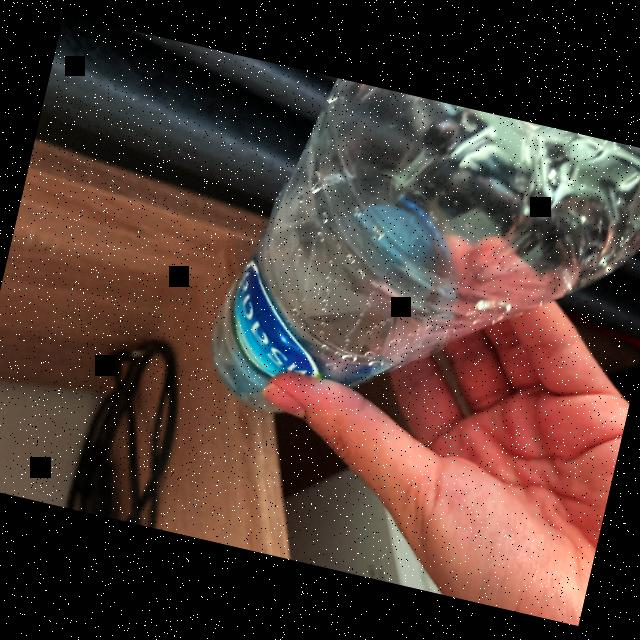plastic_bottle: (184, 60, 640, 501)
